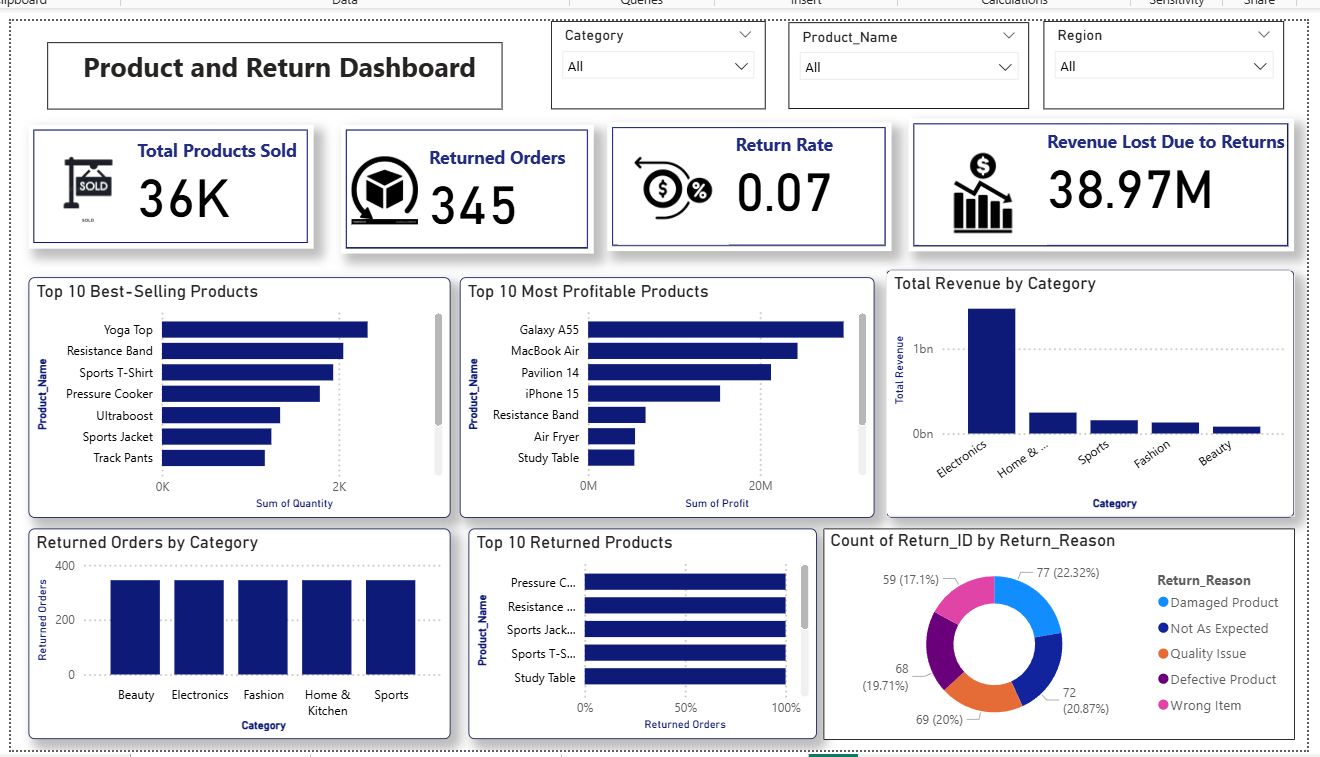

The dashboard page shown, as its layout file describes it:
{"tool":"powerbi","page":{"name":"Product & Return Dashboard","canvas":[1280,720],"ordinal":2},"visuals":[{"type":"textbox","box":[9.8,0,578.4,77],"z":0},{"type":"cardVisual","fields":{"Data":["Orders.Total Products Sold"]},"box":[16.9,102.6,281.8,122.1],"z":1000},{"type":"cardVisual","fields":{"Data":["Returns.Returned Orders"]},"box":[326,102.6,249.4,127.3],"z":2000},{"type":"cardVisual","fields":{"Data":["Returns.Return Rate"]},"box":[588.3,100,280.5,127.3],"z":3000},{"type":"cardVisual","fields":{"Data":["Order_Details.Revenue Lost Due to Returns"]},"box":[887,96.1,380.5,131.2],"z":4000},{"type":"textbox","box":[36.4,20.8,449.4,66.2],"z":5000},{"type":"clusteredBarChart","title":"Top 10 Best-Selling Products","fields":{"Category":["Products.Product_Name"],"Y":["Sum(Order_Details.Quantity)"]},"box":[16.9,253.2,416.9,237.7],"z":6000},{"type":"clusteredBarChart","title":"Top 10 Most Profitable Products","fields":{"Category":["Products.Product_Name"],"Y":["Sum(Order_Details.Profit)"]},"box":[451.9,253.2,393.5,220.8],"z":7000},{"type":"clusteredColumnChart","fields":{"Category":["Products.Category"],"Y":["Order_Details.Total Revenue"]},"box":[864.9,245.5,415.6,228.6],"z":8000},{"type":"columnChart","fields":{"Category":["Products.Category"],"Y":["Returns.Returned Orders"]},"box":[17,501,417,208],"z":9000},{"type":"hundredPercentStackedBarChart","title":"Top 10 Returned Products","fields":{"Category":["Products.Product_Name"],"Y":["Returns.Returned Orders"]},"box":[451.9,501.3,344.2,207.8],"z":10000},{"type":"donutChart","fields":{"Category":["Returns.Return_Reason"],"Y":["CountNonNull(Returns.Return_ID)"]},"box":[802.6,490.9,464.9,219.5],"z":11000},{"type":"slicer","fields":{"Values":["Products.Category"]},"box":[533.8,0,211.7,87],"z":12000},{"type":"slicer","fields":{"Values":["Products.Product_Name"]},"box":[767.5,1.3,237.7,85.7],"z":13000},{"type":"slicer","fields":{"Values":["Orders.Region"]},"box":[1019.5,0,237.7,87],"z":14000}]}

Visuals, with their boxes on the page's 1280x720 design canvas (x1, y1, x2, y2). These are canvas units, not pixel positions in the 1320x757 screenshot, which may show the page scaled, cropped or inside an application window:
textbox: locate(10, 0, 588, 77)
cardVisual - Orders.Total Products Sold: locate(17, 103, 299, 225)
cardVisual - Returns.Returned Orders: locate(326, 103, 575, 230)
cardVisual - Returns.Return Rate: locate(588, 100, 869, 227)
cardVisual - Order_Details.Revenue Lost Due to Returns: locate(887, 96, 1268, 227)
textbox: locate(36, 21, 486, 87)
"Top 10 Best-Selling Products" clusteredBarChart: locate(17, 253, 434, 491)
"Top 10 Most Profitable Products" clusteredBarChart: locate(452, 253, 845, 474)
clusteredColumnChart - Products.Category x Order_Details.Total Revenue: locate(865, 246, 1280, 474)
columnChart - Products.Category x Returns.Returned Orders: locate(17, 501, 434, 709)
"Top 10 Returned Products" hundredPercentStackedBarChart: locate(452, 501, 796, 709)
donutChart - Returns.Return_Reason x CountNonNull(Returns.Return_ID): locate(803, 491, 1268, 710)
slicer - Products.Category: locate(534, 0, 746, 87)
slicer - Products.Product_Name: locate(768, 1, 1005, 87)
slicer - Orders.Region: locate(1020, 0, 1257, 87)
